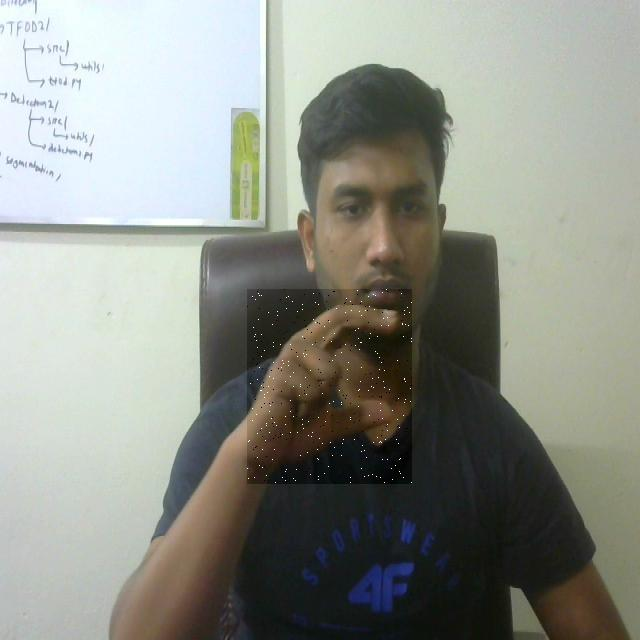No: (247, 289, 412, 484)
